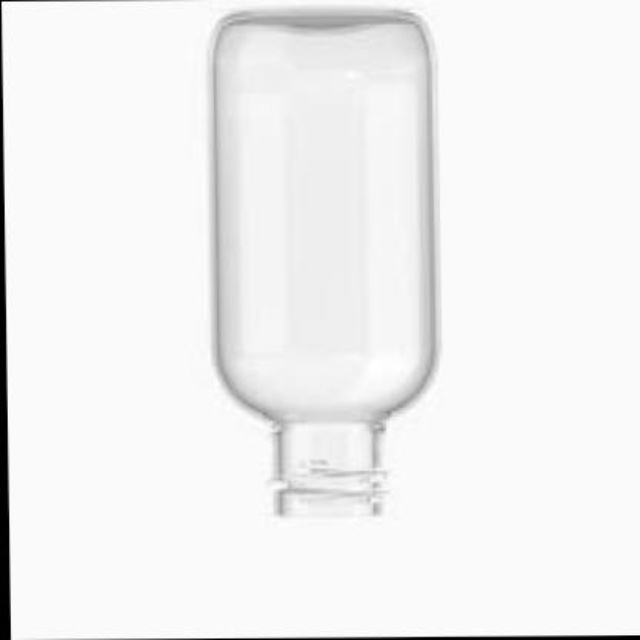trash: (214, 11, 434, 515)
